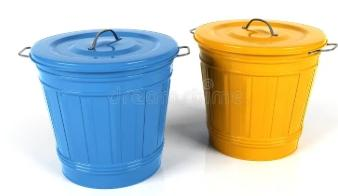SEAU: (13, 5, 189, 193), (193, 2, 338, 176)
